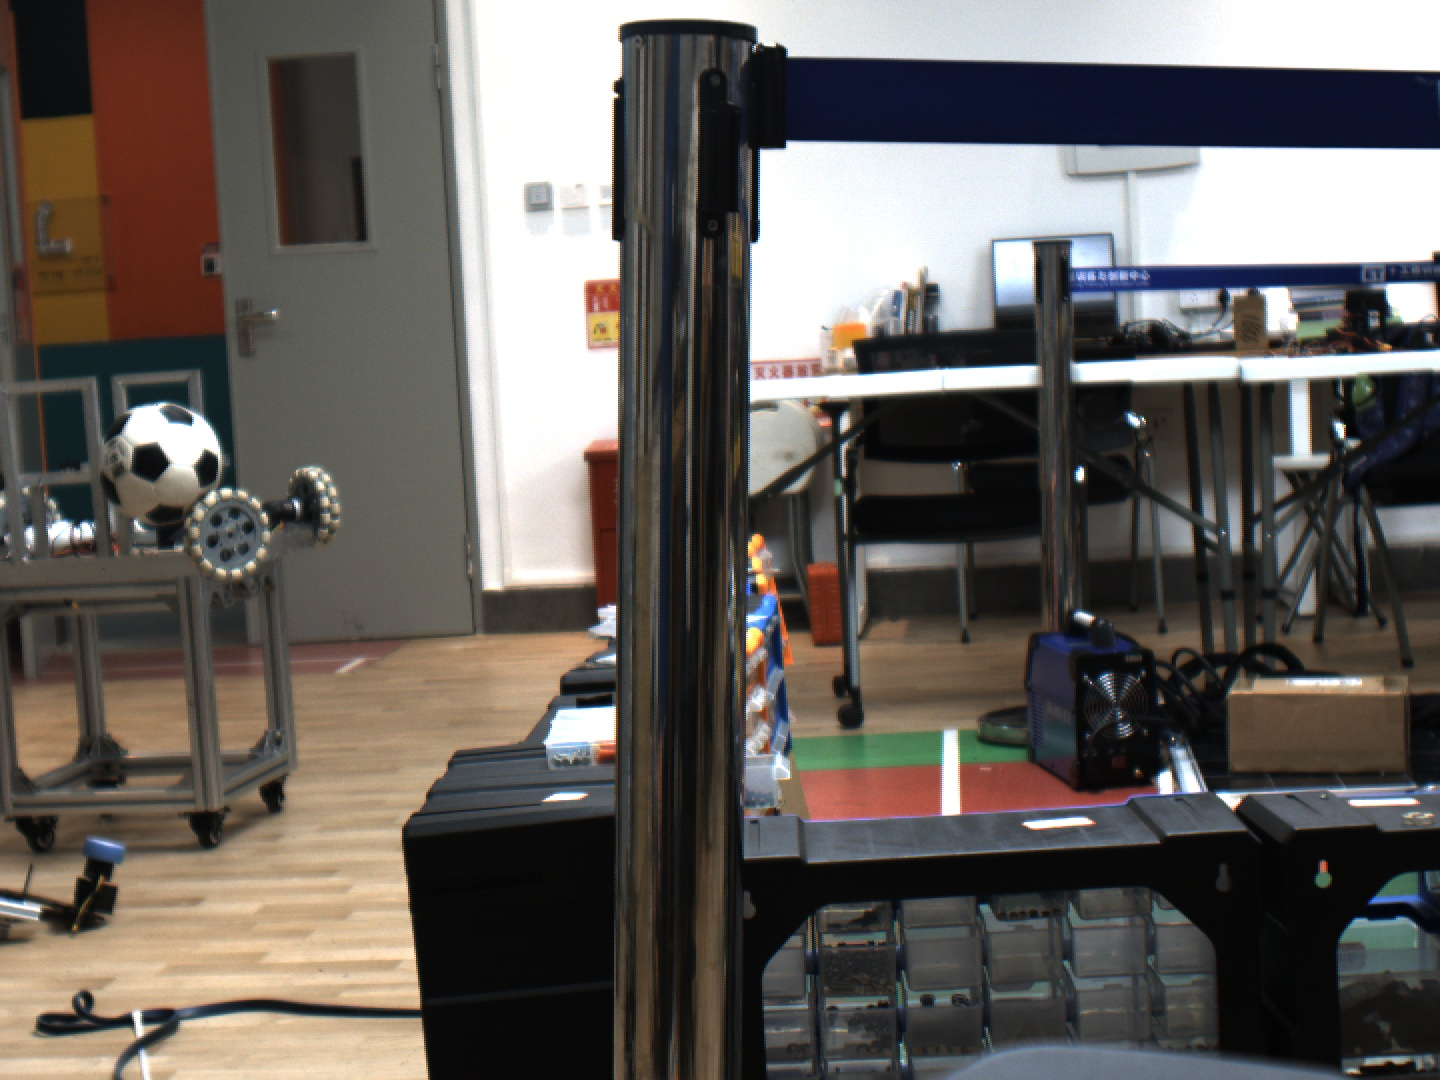ball: (73, 393, 243, 540)
